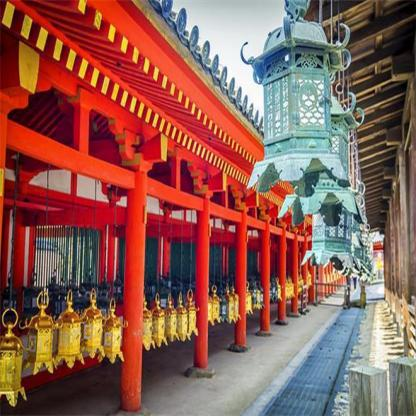other: (18, 7, 261, 210), (6, 281, 266, 367), (282, 261, 340, 293)
